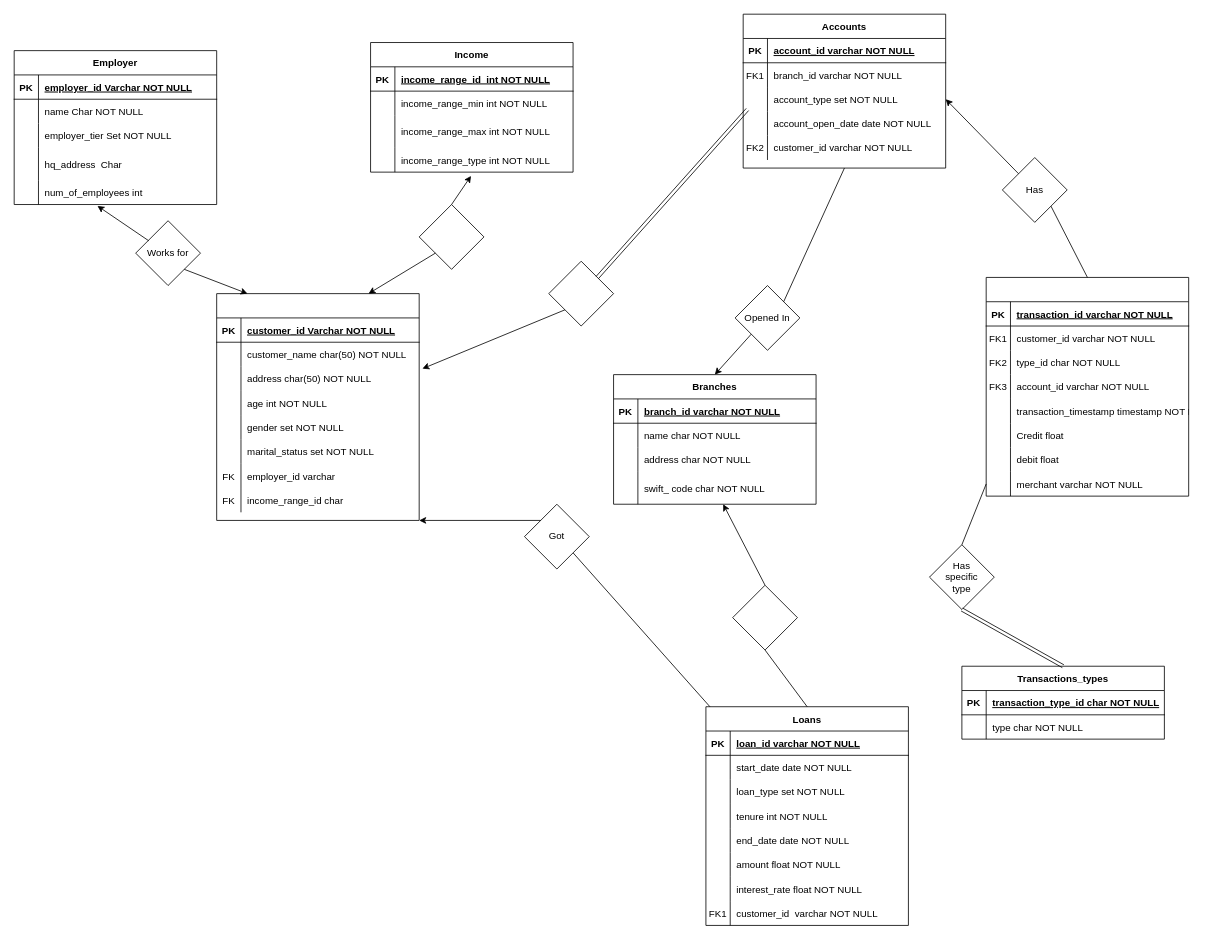
This 1226x940 diagram has some shape labels left out. Each missing label, with the box of its shape:
Customers: (216, 293, 419, 520)
Earn Annually: (418, 204, 484, 269)
Granted through: (732, 584, 797, 650)
Opened At least one Account: (548, 260, 614, 326)
Transactions: (985, 277, 1189, 496)
